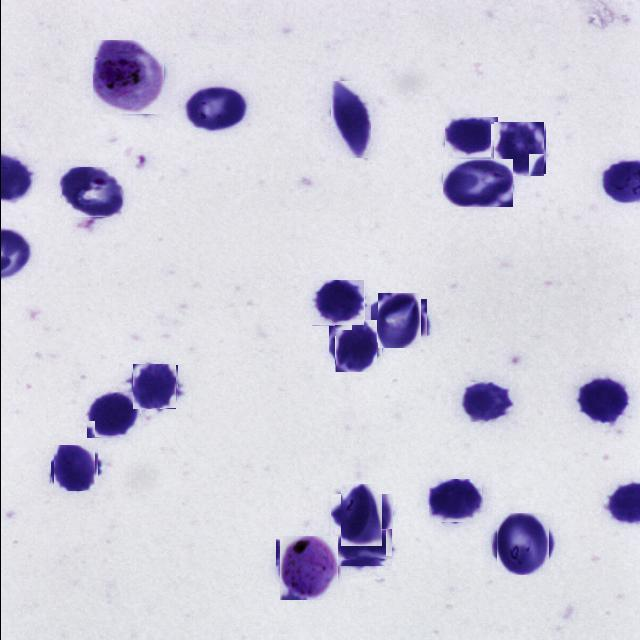difficult: (92, 40, 163, 114), (277, 538, 338, 598)
red blood cell: (442, 159, 512, 207), (494, 514, 550, 572), (330, 81, 371, 159), (61, 167, 122, 218), (183, 86, 247, 132), (335, 489, 387, 541), (492, 123, 544, 175), (373, 296, 423, 346), (86, 392, 140, 438), (311, 280, 364, 326), (575, 376, 628, 422), (428, 479, 482, 523), (331, 322, 378, 370), (334, 529, 392, 567), (460, 382, 513, 422), (444, 117, 497, 157), (51, 446, 96, 491), (132, 364, 176, 408)
